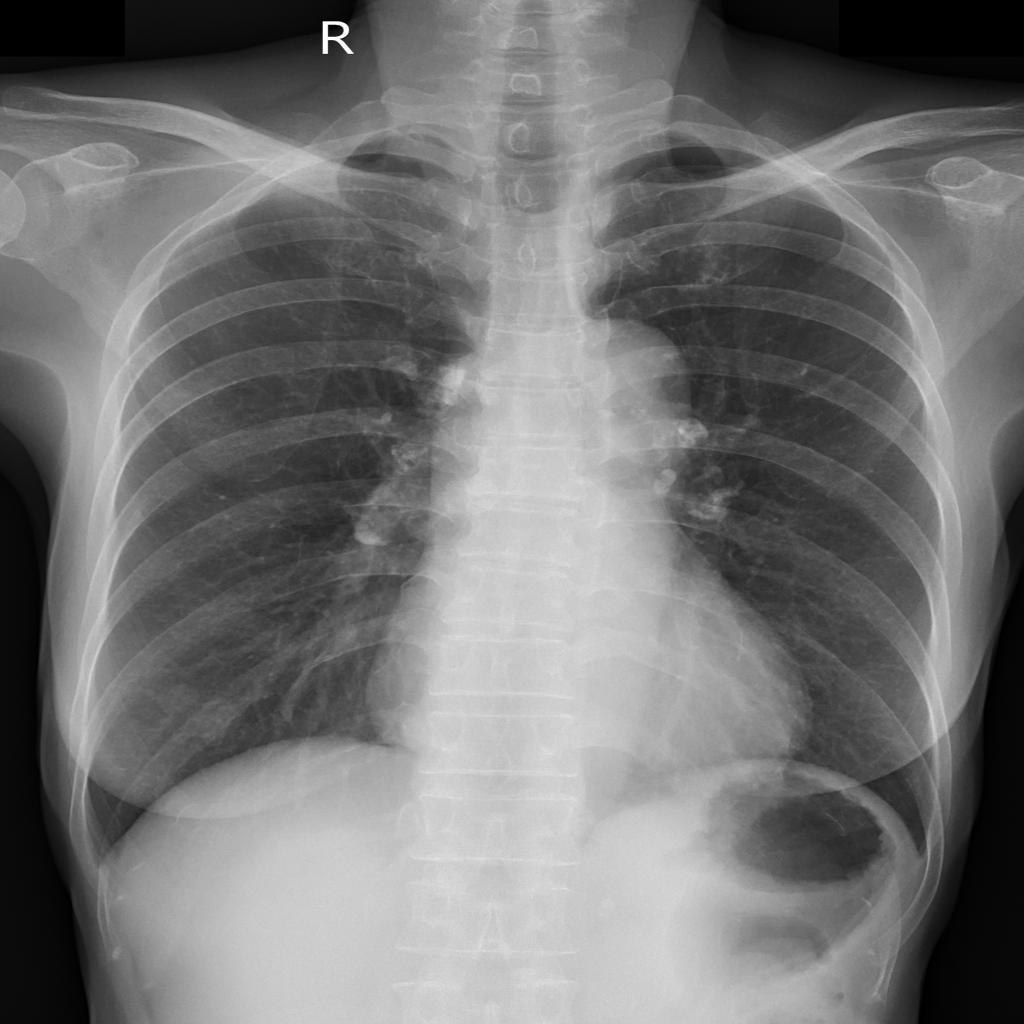Nodule: (158, 681, 199, 715), (439, 365, 460, 404)
